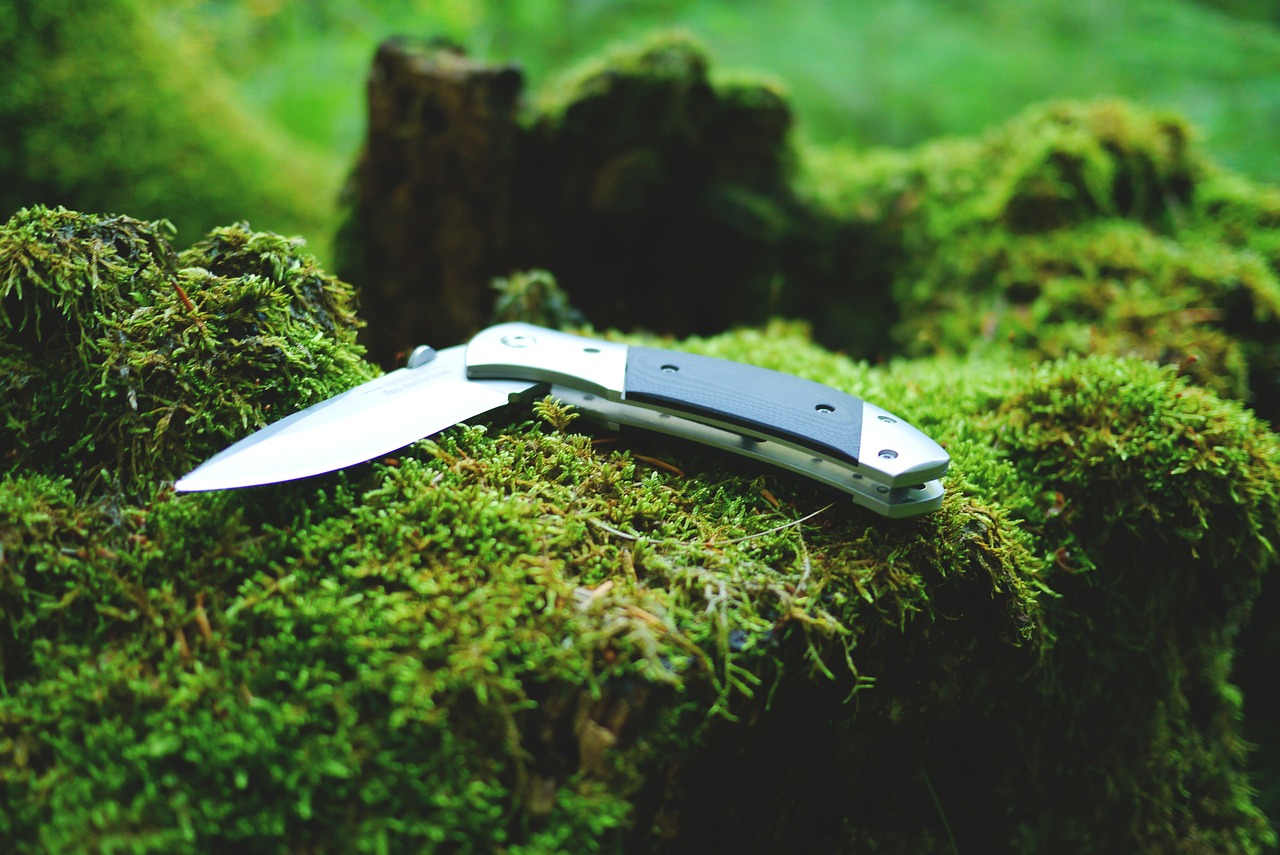knife: (144, 322, 977, 514)
